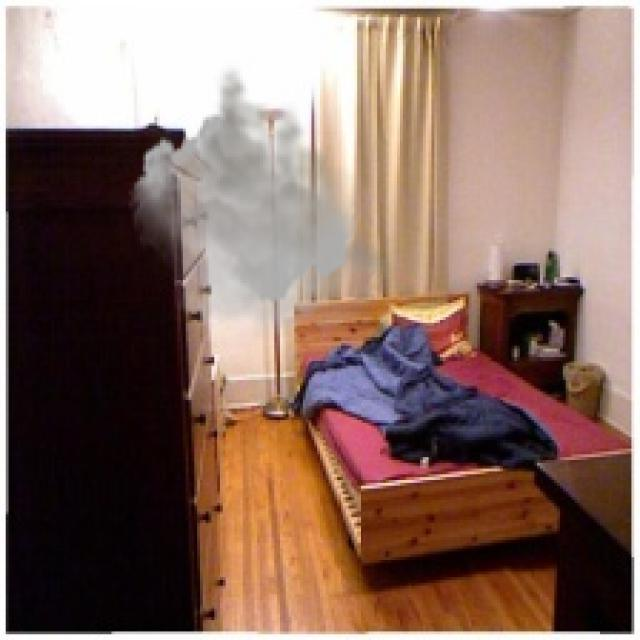Smoke: (128, 60, 394, 340)
